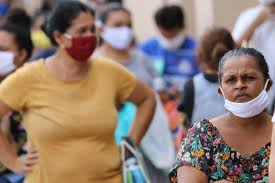mask_weared_incorrect: (212, 46, 273, 121)
with_mask: (39, 2, 103, 67)
